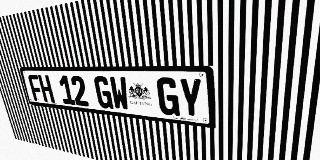1: (57, 75, 76, 105)
2: (70, 76, 89, 107)
F: (27, 75, 44, 102)
G: (156, 77, 180, 116), (93, 76, 114, 109)
H: (38, 75, 55, 103)
W: (109, 76, 130, 111)
Y: (178, 78, 203, 119)
